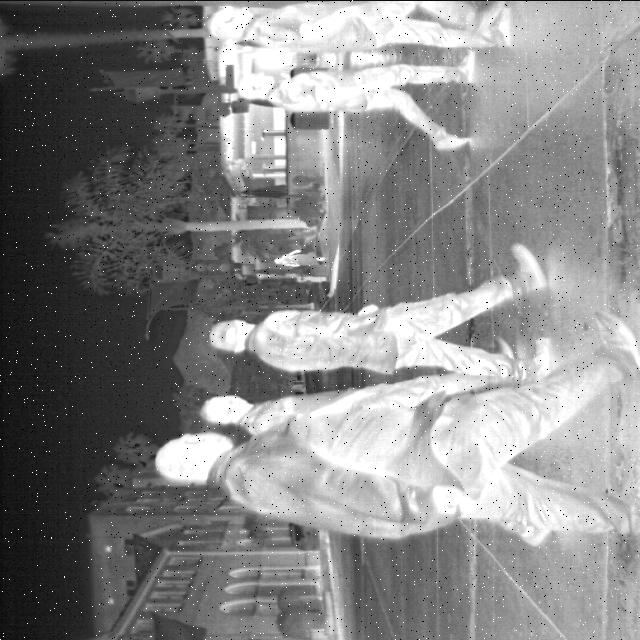Pedestrian: (156, 306, 640, 540), (207, 240, 550, 385), (238, 50, 482, 152), (208, 0, 516, 54), (270, 248, 328, 270)
